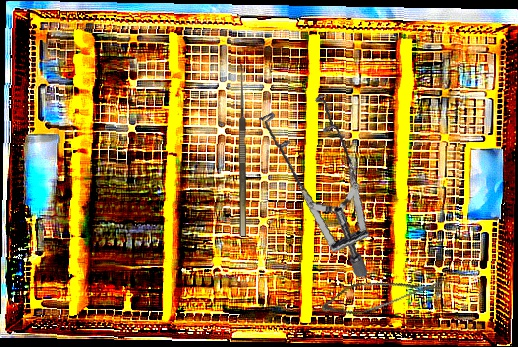Hook Surgical: (230, 64, 246, 236)
Micro Scissor: (318, 254, 443, 333)
Speculum: (232, 83, 400, 279)
